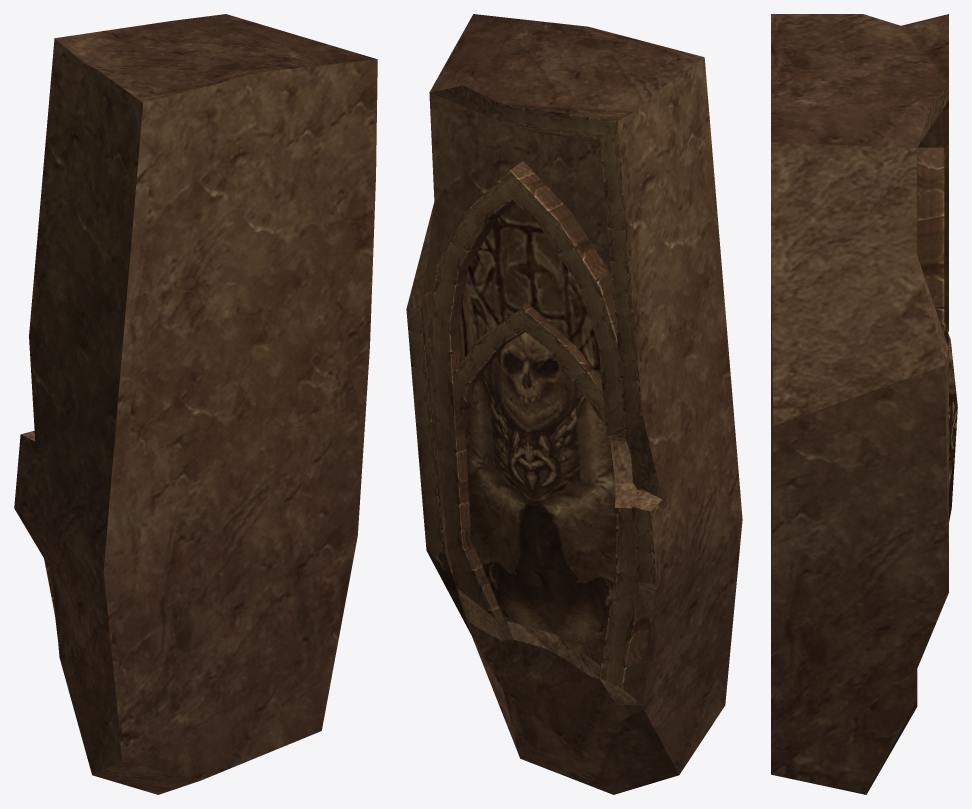
File: Scene_stone_001.FBX
3 renders of one model, left to right at view 1: azimuth 30°, elevation 25°; view 2: azimuth 150°, elevation 25°; view 3: azimuth 270°, elevation 25°, orthographic.
Visible parts, largest first — view 1: Scene_stone_001; view 2: Scene_stone_001; view 3: Scene_stone_001.
Part boxes in pixels (box(x1,y1,x2,y2)): Scene_stone_001: box(14, 14, 377, 794); Scene_stone_001: box(406, 14, 742, 794); Scene_stone_001: box(771, 14, 957, 794).
Size of the model in its own units: 6.22 by 15.89 by 3.65.
